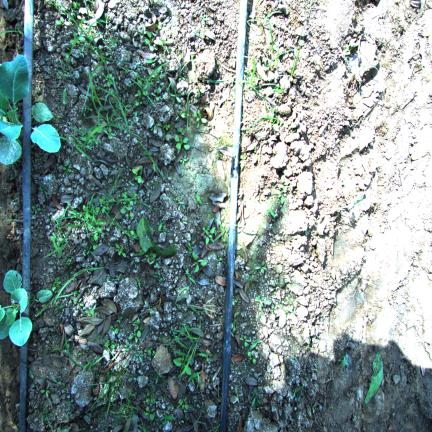crop: (0, 55, 29, 165), (0, 270, 32, 346), (30, 123, 60, 153), (31, 103, 53, 123), (34, 289, 53, 302)
